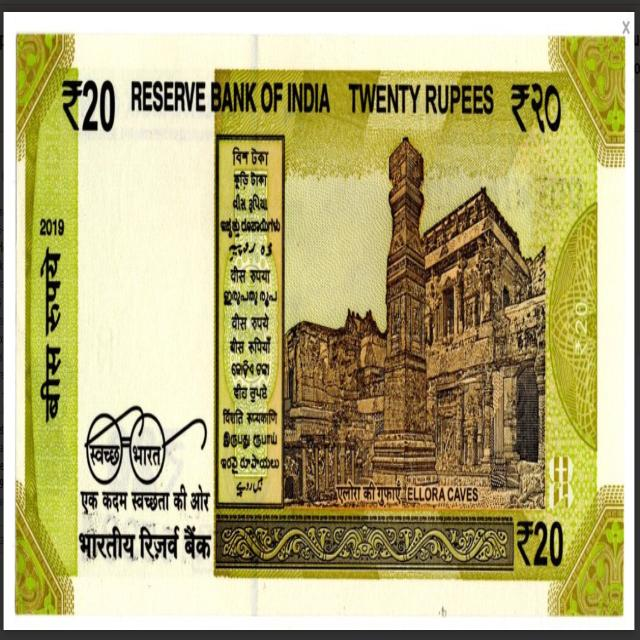20IndianRupees: (18, 34, 623, 616), (210, 33, 633, 633), (1, 13, 278, 627)
